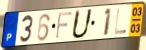1: (103, 7, 112, 38)
3: (19, 14, 34, 44)
6: (36, 13, 52, 43)
F: (54, 11, 74, 41)
L: (113, 8, 127, 35)
U: (70, 9, 94, 41)
